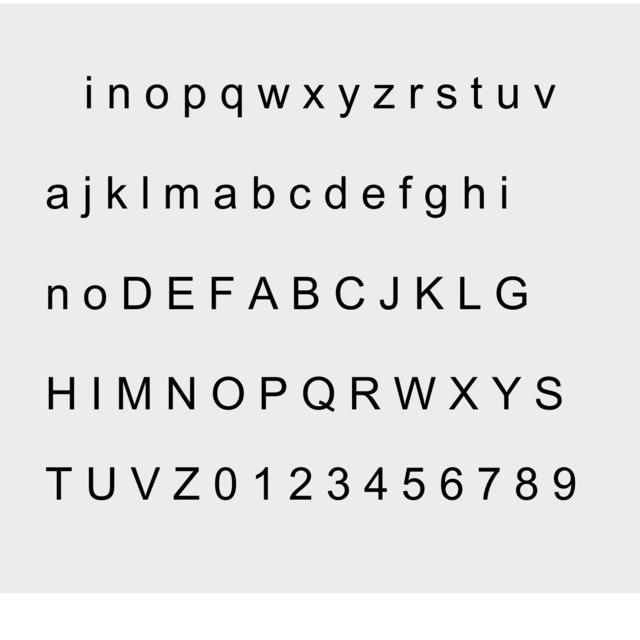alphabet: (392, 375, 432, 410), (303, 375, 337, 413), (210, 375, 244, 412), (494, 274, 527, 312), (118, 376, 152, 412), (335, 274, 365, 313), (246, 275, 279, 310), (489, 375, 521, 411), (130, 467, 162, 502), (449, 375, 479, 411), (350, 376, 379, 412), (535, 374, 562, 412), (122, 276, 152, 310), (166, 376, 195, 411), (260, 375, 288, 411), (88, 467, 116, 503), (47, 376, 75, 411), (293, 275, 320, 310), (417, 275, 444, 310), (46, 464, 72, 500), (172, 465, 199, 499), (328, 464, 351, 503), (165, 182, 199, 208), (257, 85, 291, 111), (168, 275, 194, 309), (553, 466, 576, 504), (404, 466, 426, 505), (214, 466, 236, 504), (423, 182, 446, 218), (441, 466, 464, 502), (252, 173, 275, 209), (338, 84, 361, 120), (462, 174, 484, 210), (221, 84, 243, 120), (377, 275, 399, 311), (288, 464, 310, 500), (210, 275, 233, 309), (516, 467, 538, 502), (183, 84, 204, 120), (458, 276, 480, 310), (479, 466, 502, 498), (324, 173, 344, 209), (362, 466, 383, 500), (107, 175, 127, 209), (44, 182, 68, 209), (532, 85, 556, 111), (144, 85, 168, 111), (361, 184, 384, 211), (213, 182, 236, 209), (85, 284, 108, 310), (372, 85, 395, 111), (288, 184, 310, 211), (437, 85, 459, 111), (303, 85, 325, 111), (497, 85, 518, 112), (253, 465, 269, 500), (108, 85, 129, 111), (49, 283, 69, 310), (398, 174, 413, 209), (470, 77, 482, 112), (410, 84, 425, 110), (500, 177, 507, 212)
